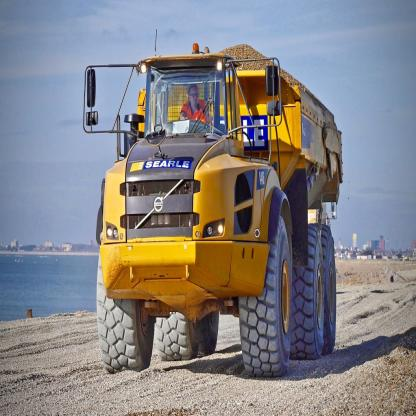dump_truck: (79, 33, 347, 375)
